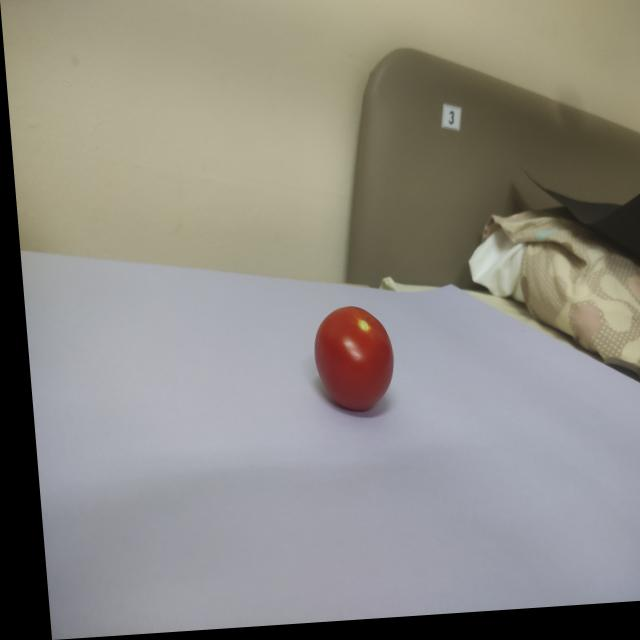kirmizi: (285, 284, 420, 427)
